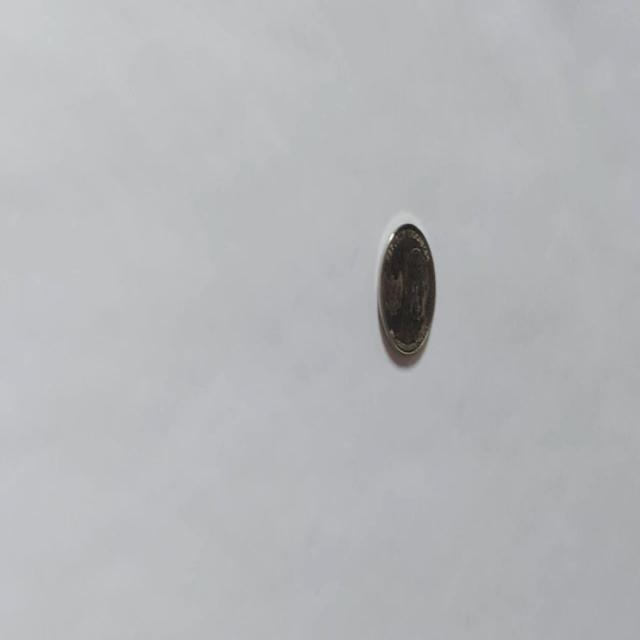seribu rupiah koin: (376, 217, 436, 359)
